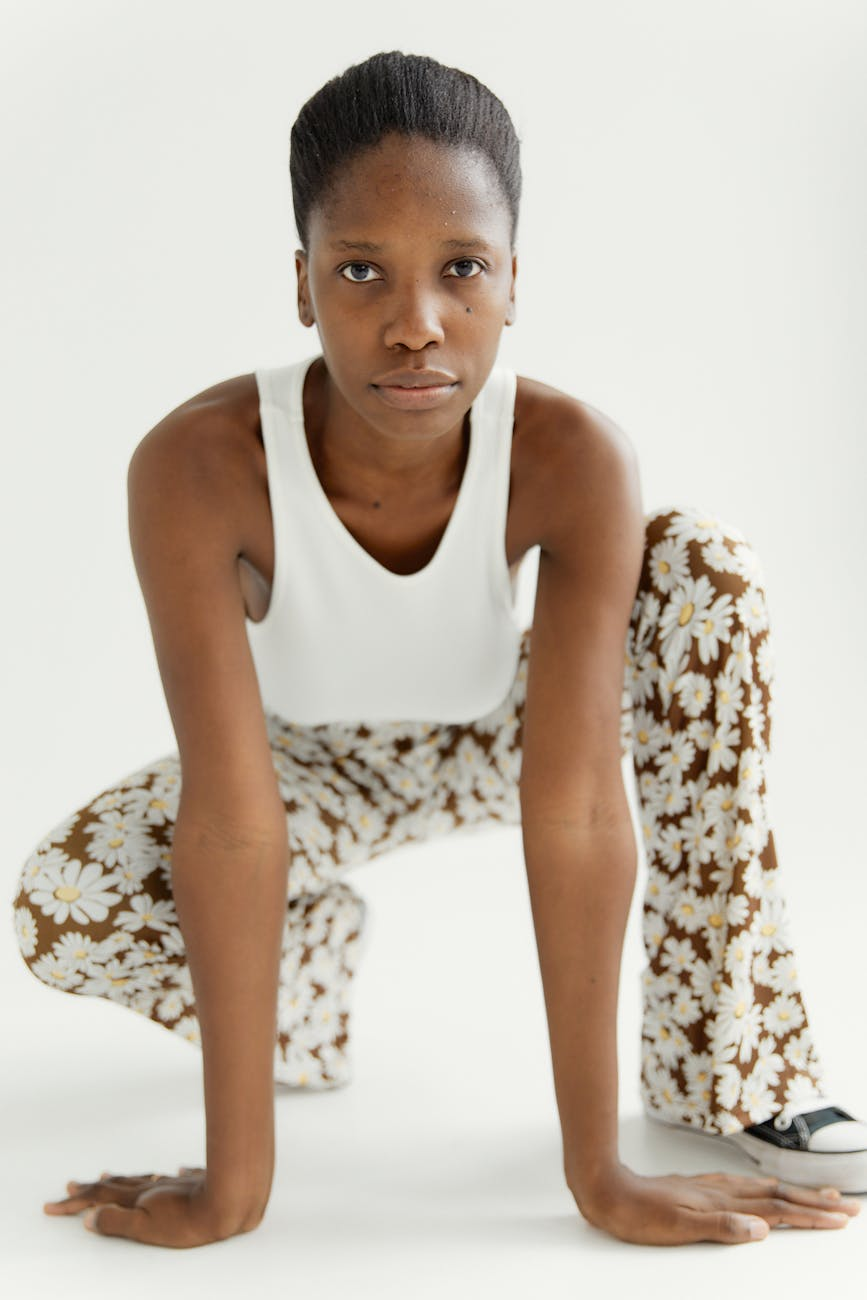sleeveless_top: (205, 366, 560, 750)
